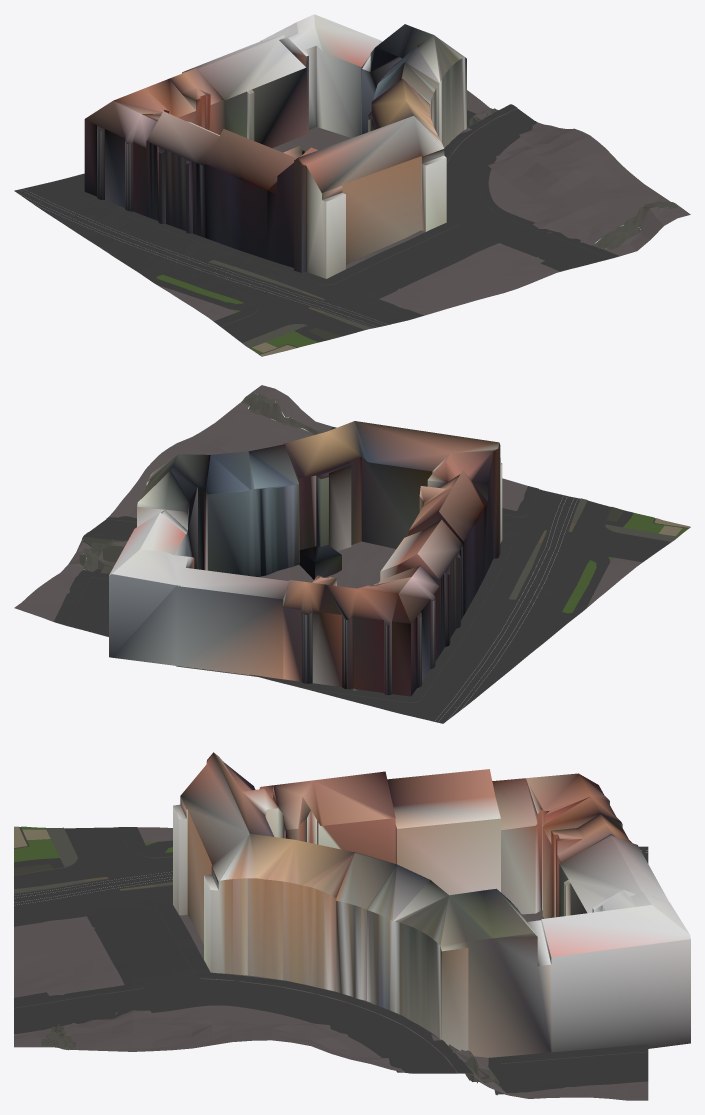
3 views of the same model, one above another, from view 1: azimuth 30°, elevation 25°; view 2: azimuth 150°, elevation 25°; view 3: azimuth 270°, elevation 25° (orthographic). The views are drawn at different scales.
Visible parts, largest first — view 1: c_m13_m04; view 2: c_m13_m04; view 3: c_m13_m04.
Part boxes in pixels (x1=…): c_m13_m04: x1=14, y1=14, x2=690, y2=356; c_m13_m04: x1=14, y1=385, x2=690, y2=723; c_m13_m04: x1=14, y1=752, x2=690, y2=1100.
Bounding box in the file's own units: 128 × 37.16 × 137.
